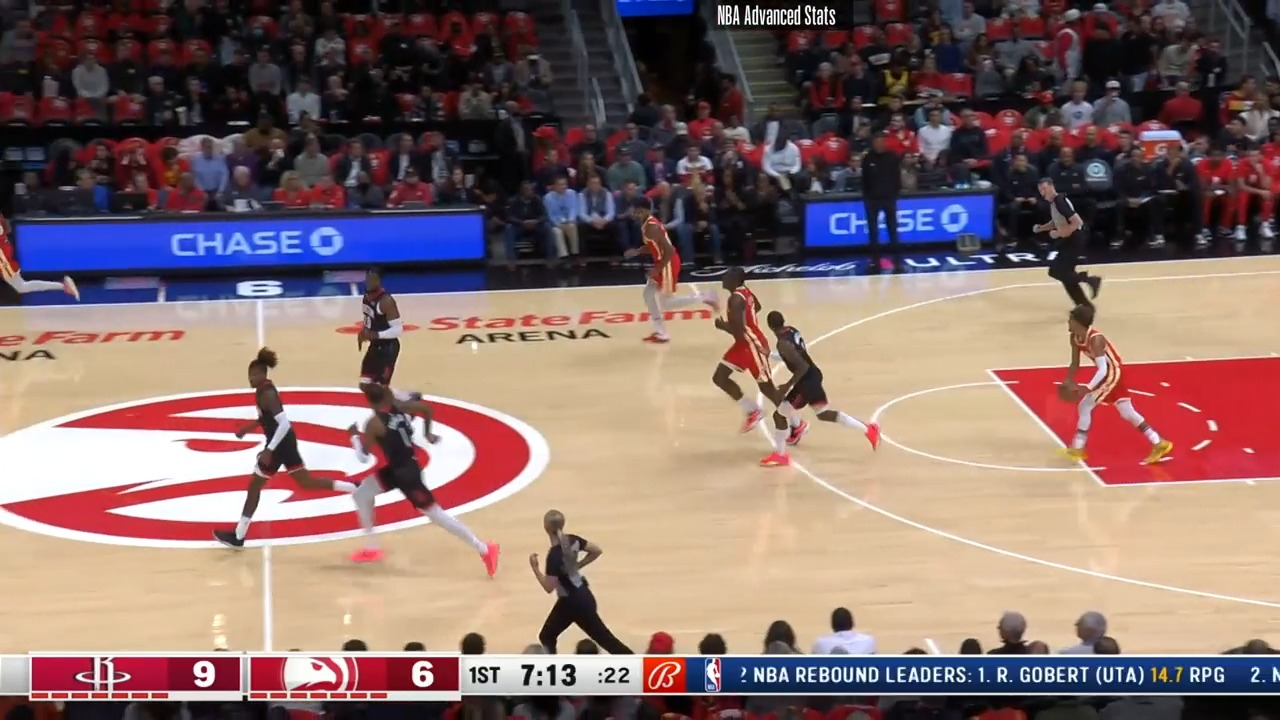player: (349, 377, 501, 580), (226, 348, 362, 558), (1059, 296, 1175, 478), (754, 308, 884, 469), (709, 262, 785, 447), (629, 199, 718, 344), (0, 192, 77, 348), (350, 262, 421, 405)
referee: (528, 507, 635, 655), (1042, 174, 1108, 312)
